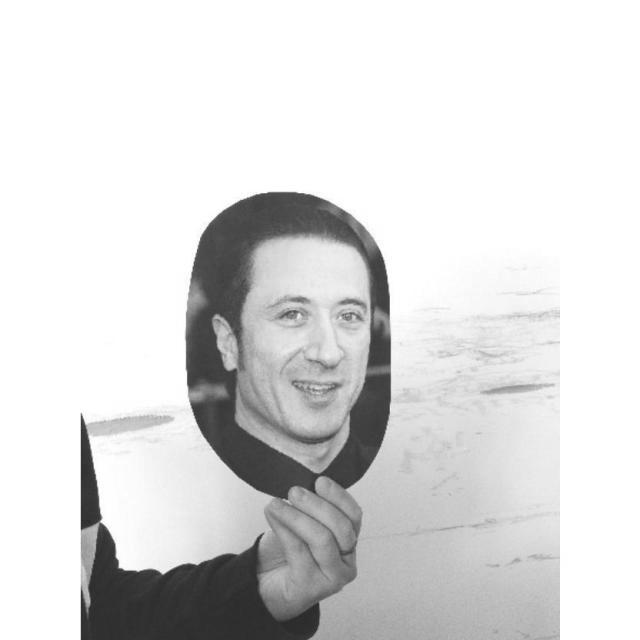fake: (175, 181, 398, 507)
